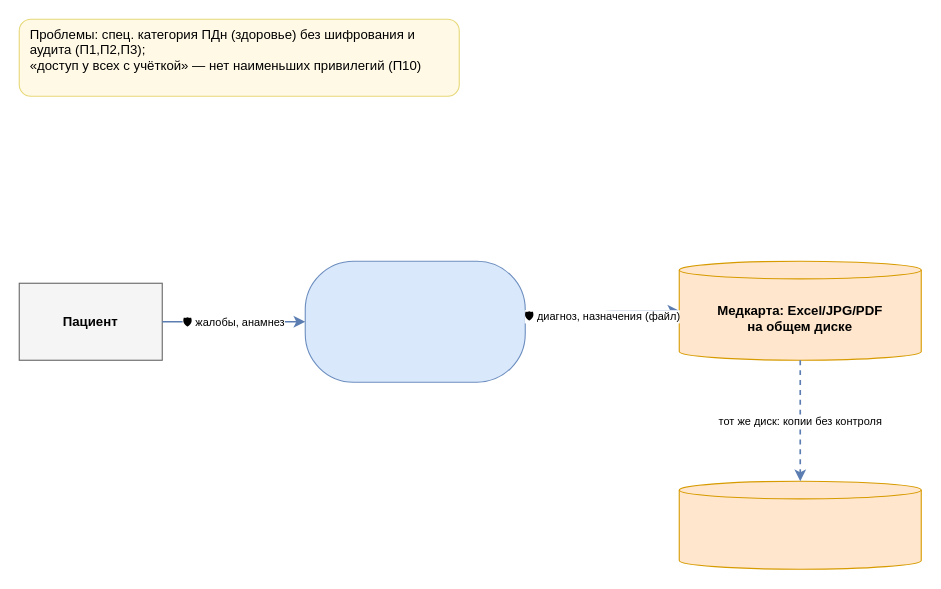
The diagram is 941 pixels wide and 589 high, and some of its shapes have lost their labels. Here are the shapes that lost their labels. From the top down, the centre of each, then its label:
point (414, 321): 2. Приём врача (заполнение карты)
point (799, 524): Общий диск — доступ всей доменной группе
